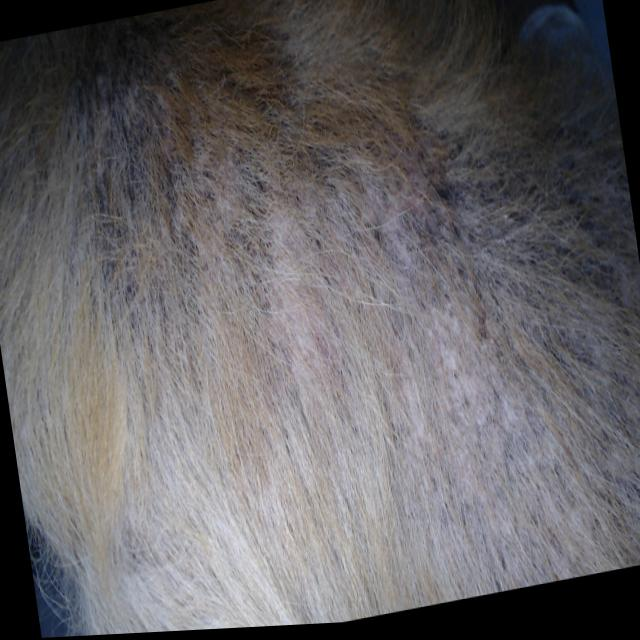demodicosis: (345, 213, 640, 616), (42, 41, 189, 313)
